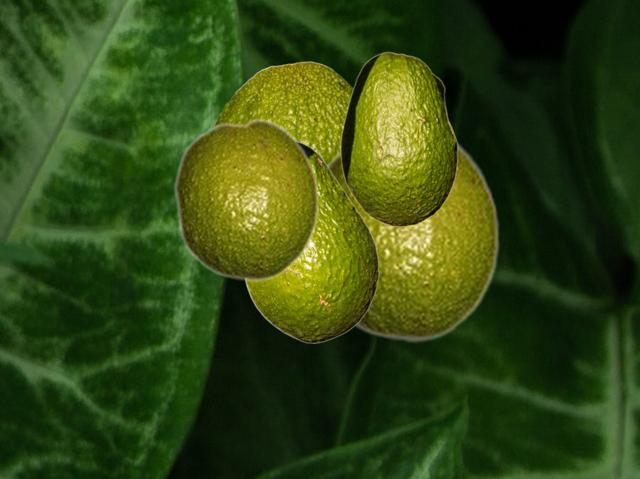avocado: (325, 137, 500, 343), (243, 139, 378, 342), (173, 117, 319, 282), (340, 51, 457, 226), (215, 61, 352, 161)
